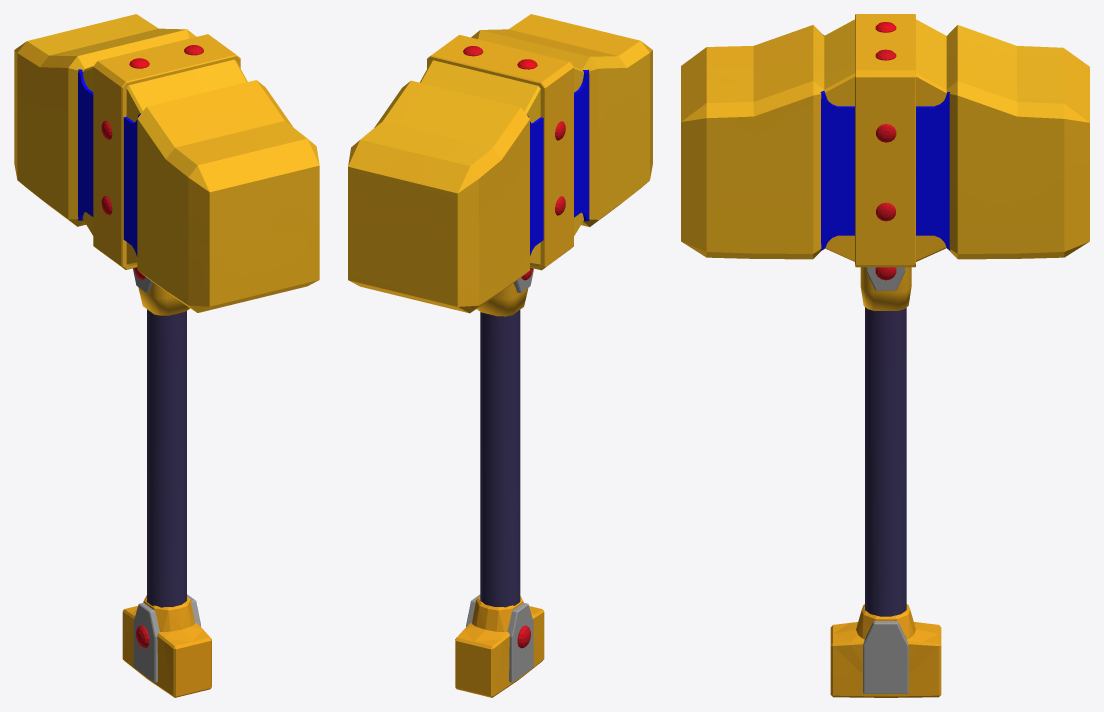
File: hummer4.fbx
3 renders of one model, left to right at view 1: azimuth 30°, elevation 25°; view 2: azimuth 150°, elevation 25°; view 3: azimuth 270°, elevation 25°, orthographic. The views are drawn at different scales.
Parts seen in each view (by area): view 1: handle; view 2: handle; view 3: handle.
Boxes of the visible parts, <box> form: handle: <box>14,14,319,697</box>; handle: <box>348,14,652,697</box>; handle: <box>681,14,1089,697</box>.
Bounding box in the file's own units: 0.2957 × 1.37 × 0.7807.
